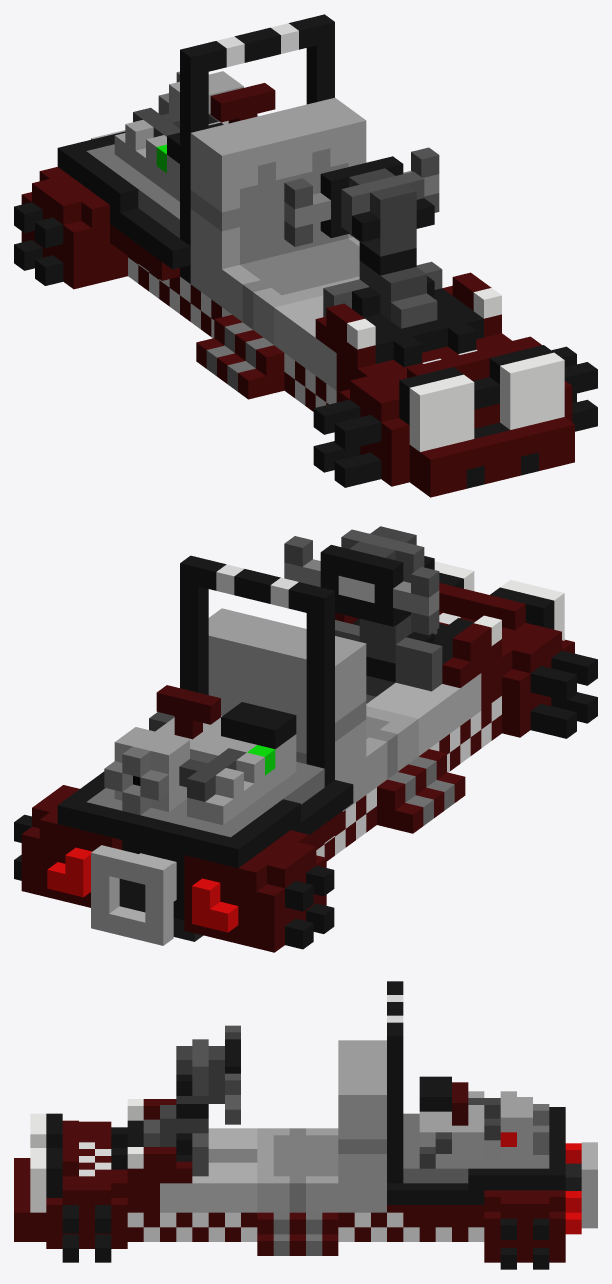
File: Maroon_Kart_Chassis.obj
3 renders of one model, top to bottom at view 1: azimuth 30°, elevation 25°; view 2: azimuth 150°, elevation 25°; view 3: azimuth 270°, elevation 25°, orthographic. The views are drawn at different scales.
Size of the model in its own units: 1.6 by 1.5 by 3.6.
Materials: 1 (1 with a texture image).
